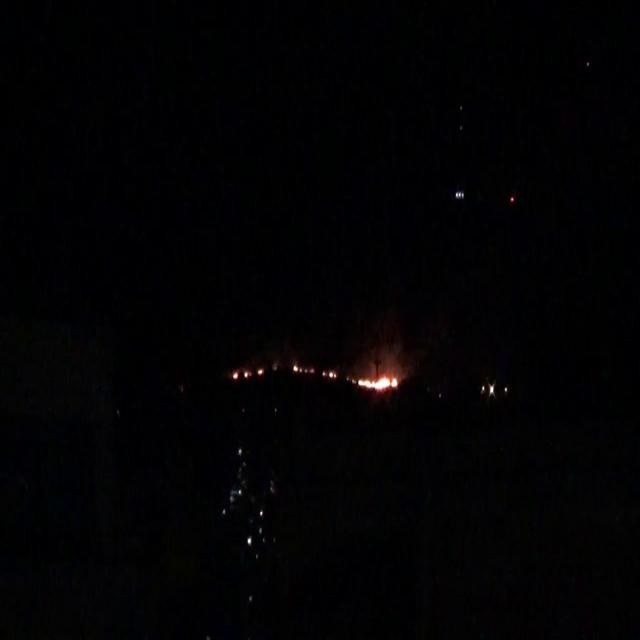Fire: (357, 376, 397, 392), (292, 361, 314, 377), (328, 370, 336, 380), (230, 369, 238, 378), (257, 366, 263, 375), (244, 369, 250, 378)
